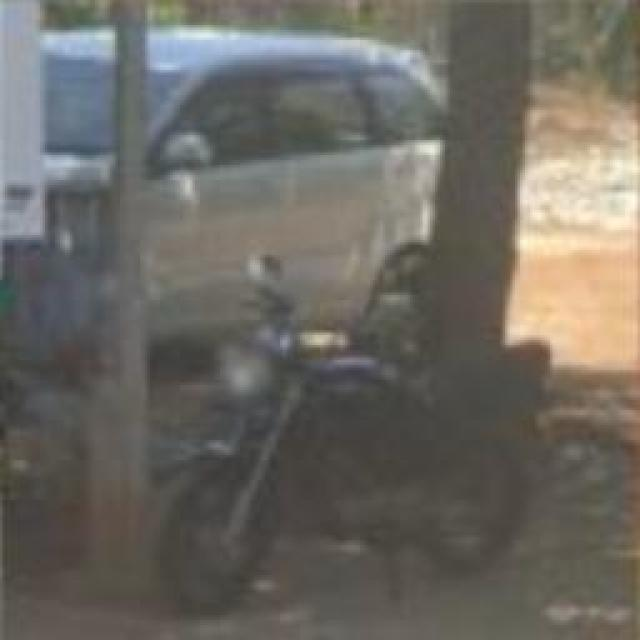Mobil: (20, 28, 445, 368)
Motor: (152, 255, 538, 615)
